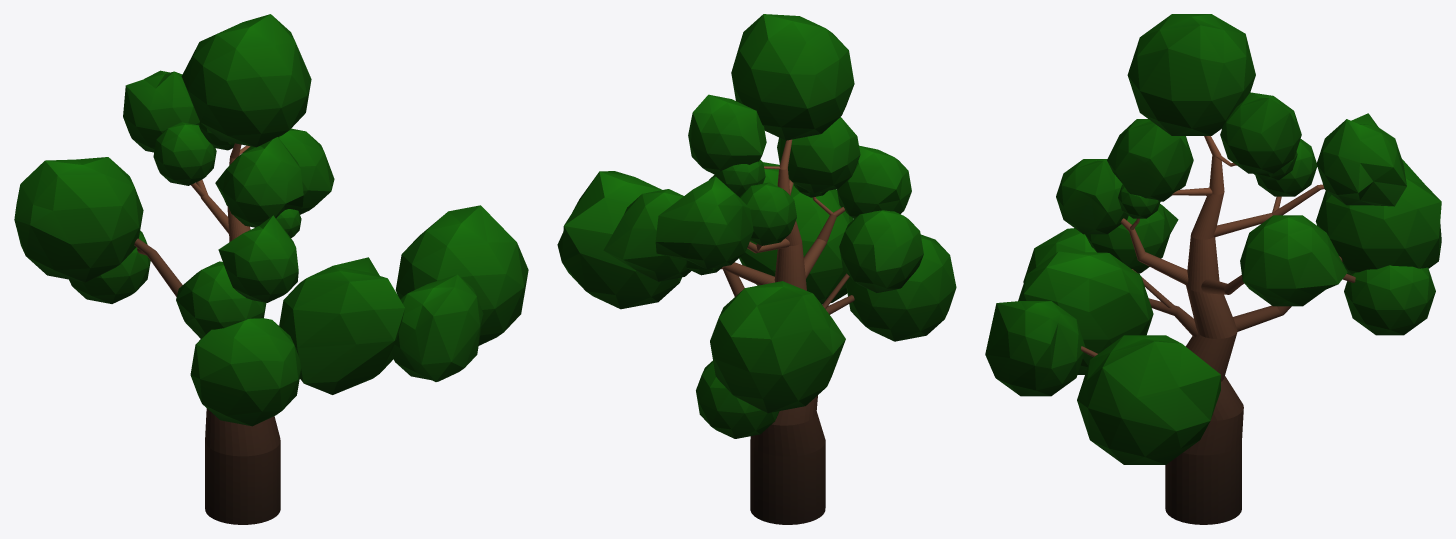
Rendered from env_tree_anyaGupta_01.glb.
The picture shows the model from 3 angles, left to right: view 1: azimuth 30°, elevation 25°; view 2: azimuth 150°, elevation 25°; view 3: azimuth 270°, elevation 25°; orthographic projection.
Visible parts, largest first — view 1: Icosphere.001; view 2: Icosphere.001; view 3: Icosphere.001.
Boxes of the visible parts, box(x1,y1,x2,y2) form: Icosphere.001: box(14, 14, 528, 524); Icosphere.001: box(557, 14, 956, 524); Icosphere.001: box(985, 14, 1441, 524).
Size of the model in its own units: 11.66 by 14.28 by 11.9.
1 material, 1 textured.
